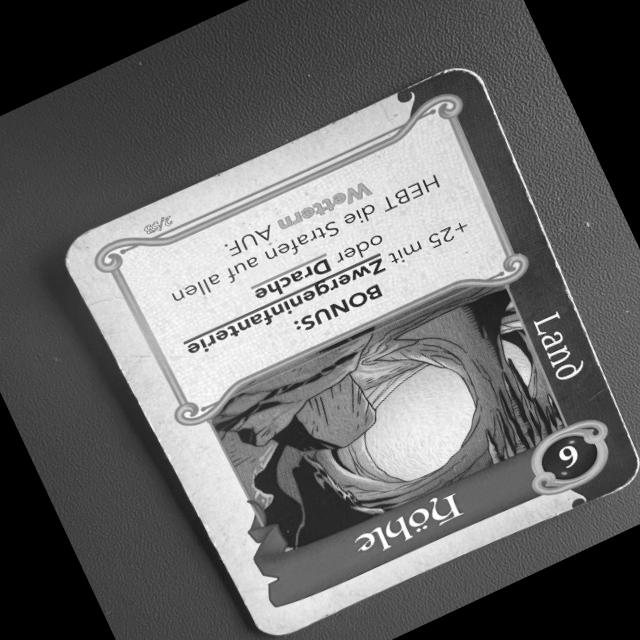Underground Caverns: (53, 50, 640, 640)
